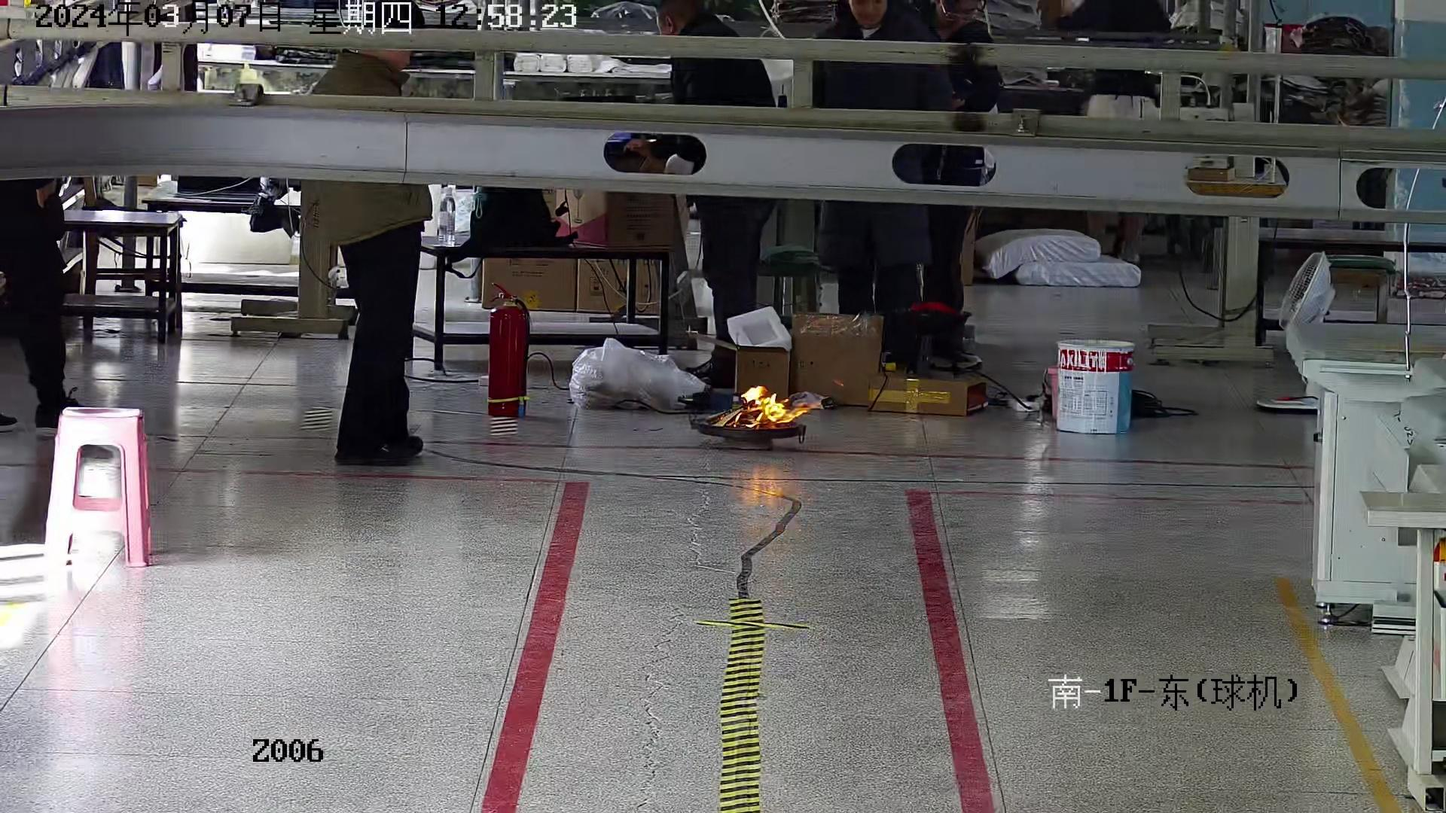fire: (715, 385, 822, 428)
